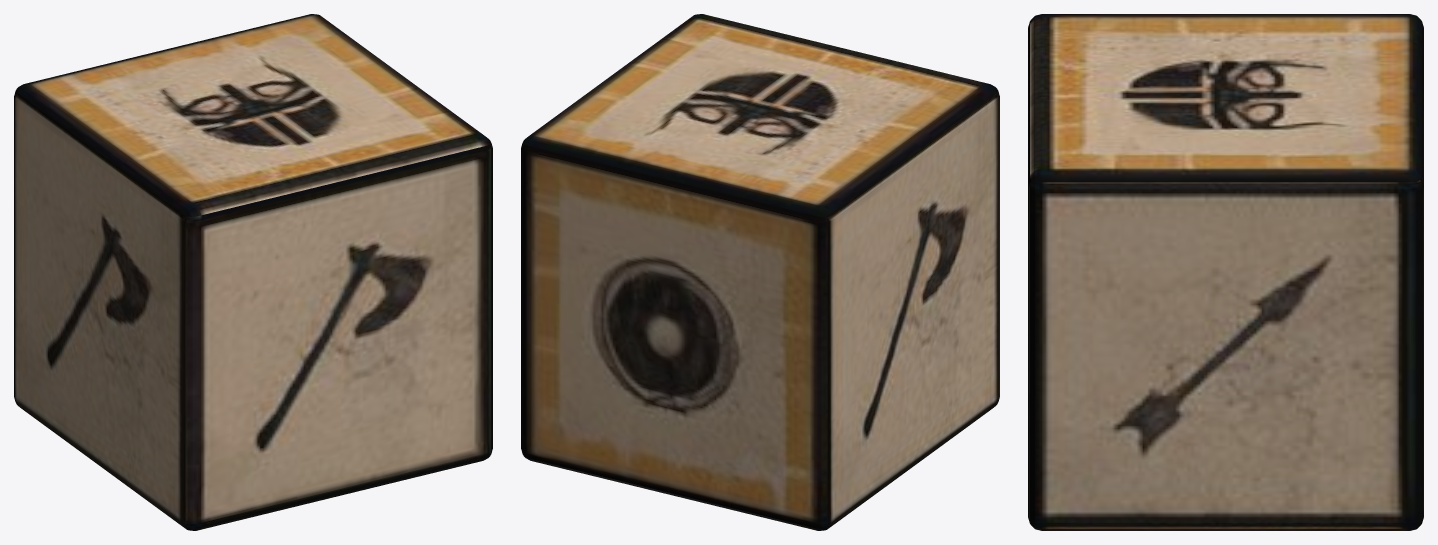
The model's file is dice6.glb.
3 views of the same model, side by side, from view 1: azimuth 30°, elevation 25°; view 2: azimuth 150°, elevation 25°; view 3: azimuth 270°, elevation 25° (orthographic). The views are drawn at different scales.
Parts seen in each view (by area): view 1: Cube; view 2: Cube; view 3: Cube.
Boxes of the visible parts, bbox=[...] form: Cube: bbox=[14, 14, 492, 530]; Cube: bbox=[521, 14, 999, 530]; Cube: bbox=[1028, 14, 1423, 530].
Size of the model in its own units: 2 by 2 by 2.
Materials: 1 (1 with a texture image).
